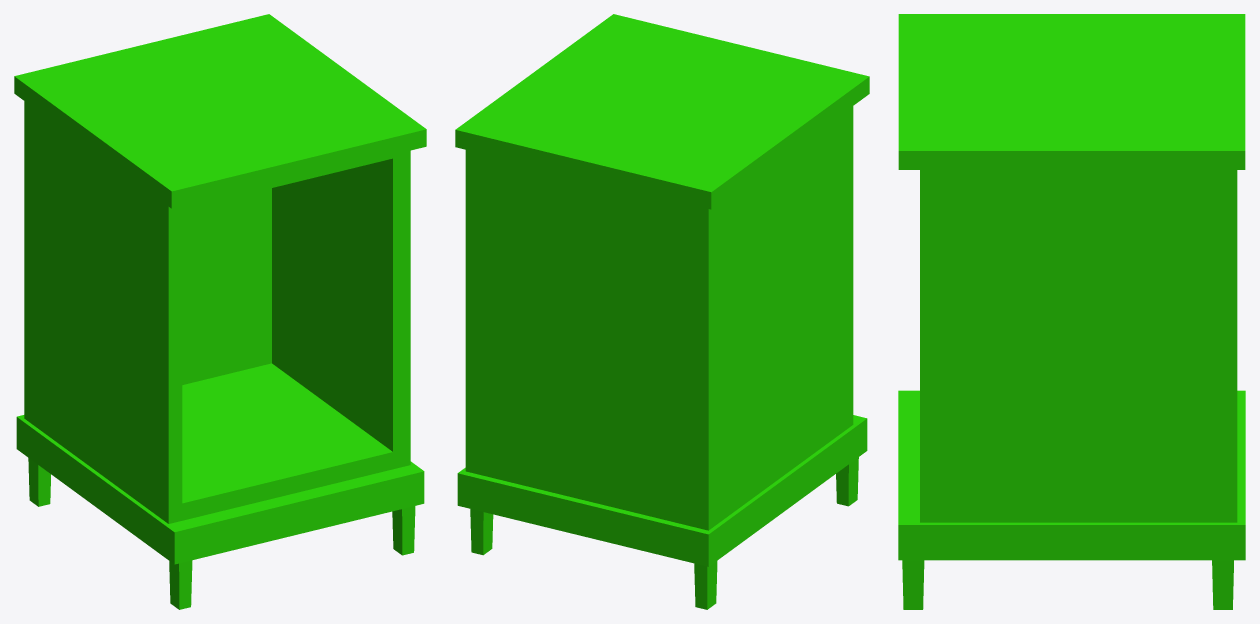
Rendered from Cupboard_18_Lod0.fbx.
The picture shows the model from 3 angles, left to right: view 1: azimuth 30°, elevation 25°; view 2: azimuth 150°, elevation 25°; view 3: azimuth 270°, elevation 25°; orthographic projection. The views are drawn at different scales.
Visible parts, largest first — view 1: Cupboard_18_Lod0; view 2: Cupboard_18_Lod0; view 3: Cupboard_18_Lod0.
Boxes of the visible parts, left/top/right/bottom form: Cupboard_18_Lod0: left=14, top=14, right=426, bottom=609; Cupboard_18_Lod0: left=455, top=14, right=869, bottom=609; Cupboard_18_Lod0: left=898, top=14, right=1245, bottom=609.
Size of the model in its own units: 52.54 by 83.18 by 56.39.
